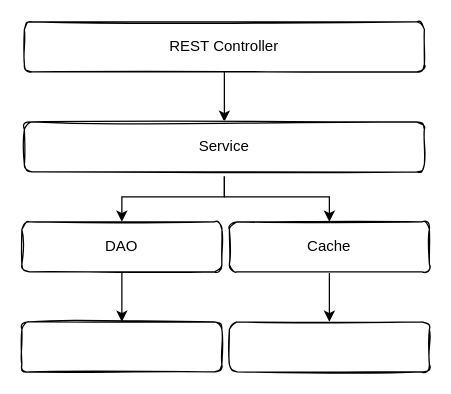
Image size: 451x394. Some labels were removed from this diagram. Here are the shapes that lost their labels. From the top down, the centre of each, then its label:
pixel 121 346: Database
pixel 328 346: Collection
